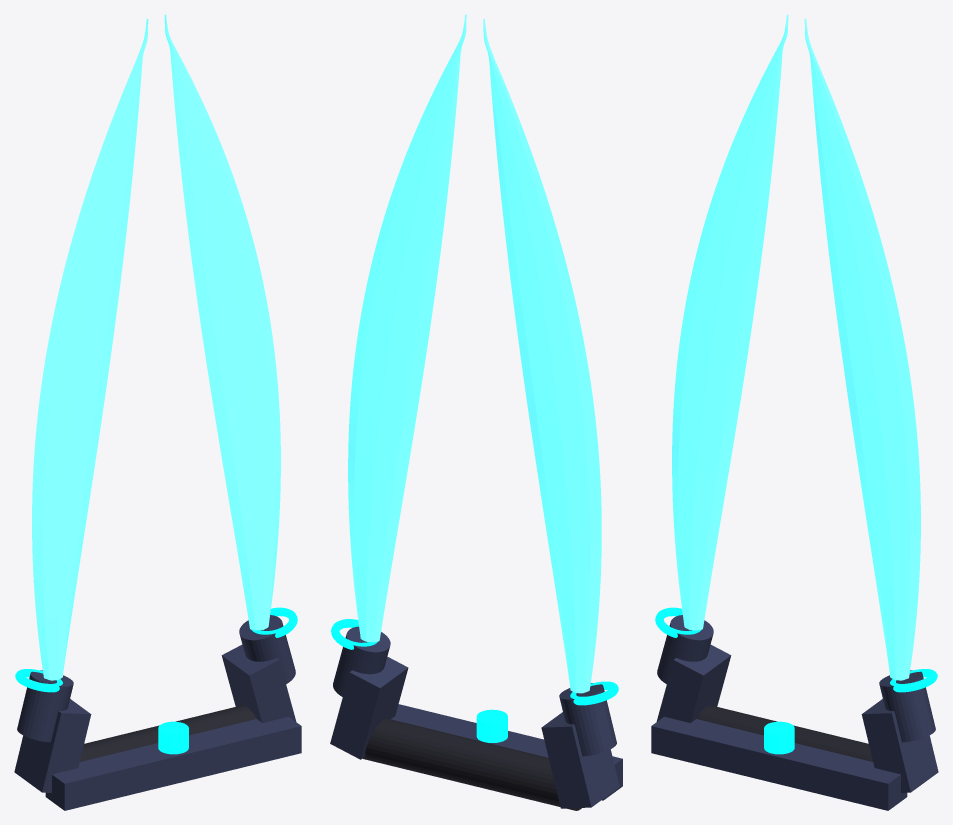
The model's file is Energy_Sword_Plasma.glb.
The picture shows the model from 3 angles, left to right: view 1: azimuth 30°, elevation 25°; view 2: azimuth 150°, elevation 25°; view 3: azimuth 330°, elevation 25°; orthographic projection.
Visible parts, largest first — view 1: GEO-energy_sword_blade_L, GEO-energy_sword_blade_R, GEO-energy_sword_handguard, GEO-energy_sword_emitter_arm_-1, GEO-energy_sword_emitter_arm_1, GEO-energy_sword_main_grip, GEO-energy_sword_nozzle_-1, GEO-energy_sword_nozzle_1, GEO-energy_sword_power_crystal, GEO-energy_sword_confinement_ring_-1, GEO-energy_sword_confinement_ring_1; view 2: GEO-energy_sword_blade_L, GEO-energy_sword_blade_R, GEO-energy_sword_main_grip, GEO-energy_sword_emitter_arm_1, GEO-energy_sword_emitter_arm_-1, GEO-energy_sword_handguard, GEO-energy_sword_nozzle_-1, GEO-energy_sword_nozzle_1, GEO-energy_sword_power_crystal, GEO-energy_sword_confinement_ring_-1, GEO-energy_sword_confinement_ring_1; view 3: GEO-energy_sword_blade_R, GEO-energy_sword_blade_L, GEO-energy_sword_handguard, GEO-energy_sword_emitter_arm_1, GEO-energy_sword_emitter_arm_-1, GEO-energy_sword_main_grip, GEO-energy_sword_nozzle_1, GEO-energy_sword_nozzle_-1, GEO-energy_sword_power_crystal, GEO-energy_sword_confinement_ring_1, GEO-energy_sword_confinement_ring_-1.
Part boxes in pixels (x1,y1,x2,y2): GEO-energy_sword_blade_L: (32,18,148,680); GEO-energy_sword_blade_R: (164,14,280,630); GEO-energy_sword_handguard: (45,716,301,810); GEO-energy_sword_emitter_arm_-1: (14,699,91,792); GEO-energy_sword_emitter_arm_1: (221,644,296,722); GEO-energy_sword_main_grip: (80,705,256,761); GEO-energy_sword_nozzle_-1: (17,670,73,742); GEO-energy_sword_nozzle_1: (239,615,295,683); GEO-energy_sword_power_crystal: (158,721,188,754); GEO-energy_sword_confinement_ring_-1: (15,669,62,692); GEO-energy_sword_confinement_ring_1: (251,607,297,637); GEO-energy_sword_blade_L: (483,18,601,693); GEO-energy_sword_blade_R: (348,14,466,642); GEO-energy_sword_main_grip: (362,718,581,810); GEO-energy_sword_emitter_arm_1: (330,656,408,759); GEO-energy_sword_emitter_arm_-1: (541,712,619,808); GEO-energy_sword_handguard: (391,704,622,800); GEO-energy_sword_nozzle_-1: (559,683,616,756); GEO-energy_sword_nozzle_1: (333,626,390,696); GEO-energy_sword_power_crystal: (476,709,507,742); GEO-energy_sword_confinement_ring_-1: (570,681,618,705); GEO-energy_sword_confinement_ring_1: (331,619,377,649); GEO-energy_sword_blade_R: (804,18,920,680); GEO-energy_sword_blade_L: (672,14,788,630); GEO-energy_sword_handguard: (651,716,907,810); GEO-energy_sword_emitter_arm_1: (861,699,938,792); GEO-energy_sword_emitter_arm_-1: (656,644,731,722); GEO-energy_sword_main_grip: (696,705,872,761); GEO-energy_sword_nozzle_1: (879,670,935,742); GEO-energy_sword_nozzle_-1: (657,615,713,683); GEO-energy_sword_power_crystal: (764,721,794,754); GEO-energy_sword_confinement_ring_1: (890,669,937,692); GEO-energy_sword_confinement_ring_-1: (655,607,701,637).
Size of the model in its own units: 0.372 by 0.971 by 0.095.
